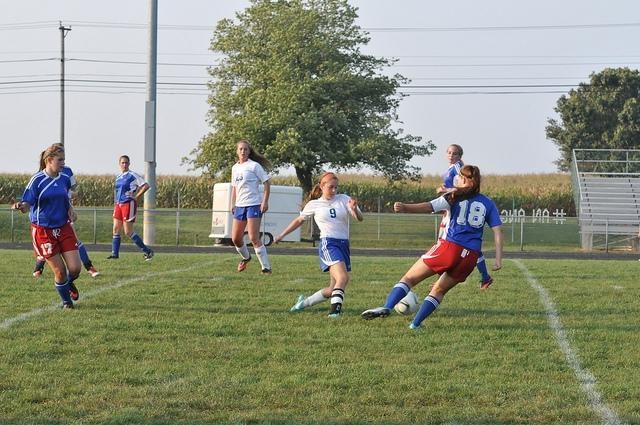truck: (208, 182, 303, 247)
